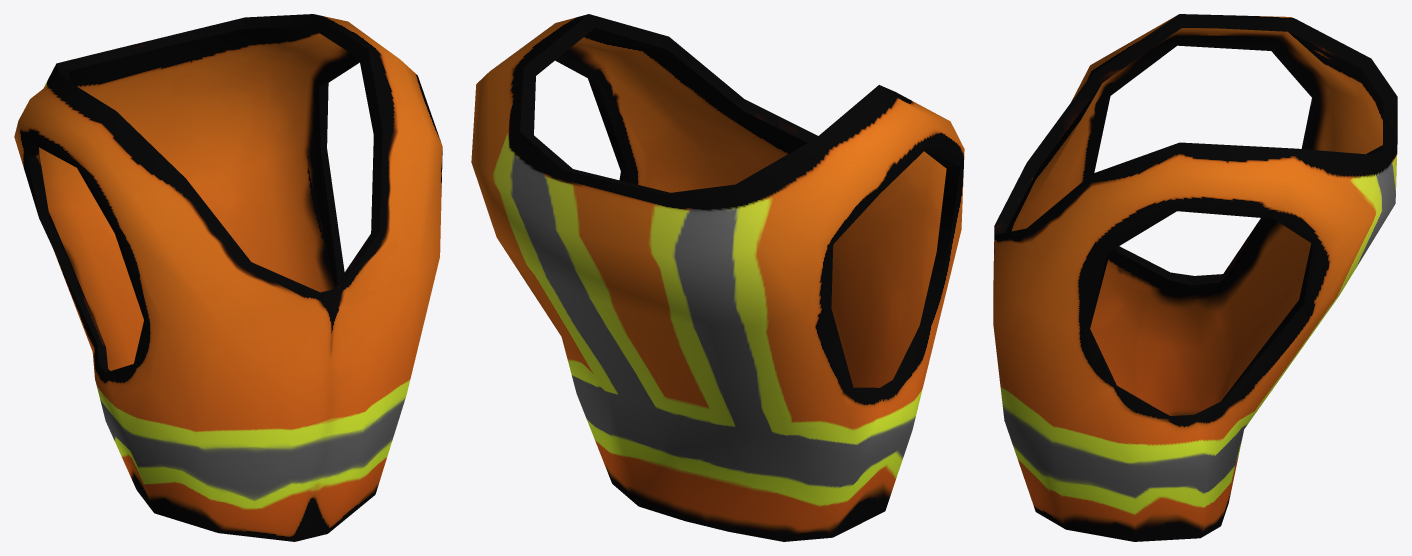
File: vest model.FBX
The picture shows the model from 3 angles, left to right: view 1: azimuth 30°, elevation 25°; view 2: azimuth 150°, elevation 25°; view 3: azimuth 270°, elevation 25°; orthographic projection. The views are drawn at different scales.
Parts seen in each view (by area): view 1: RetopoGroup1; view 2: RetopoGroup1; view 3: RetopoGroup1.
Boxes of the visible parts, x1,y1,x2,y2 form: RetopoGroup1: (14,14,442,541); RetopoGroup1: (471,14,964,541); RetopoGroup1: (993,14,1397,541).
Bounding box in the file's own units: 12.77 × 14.35 × 12.36.
